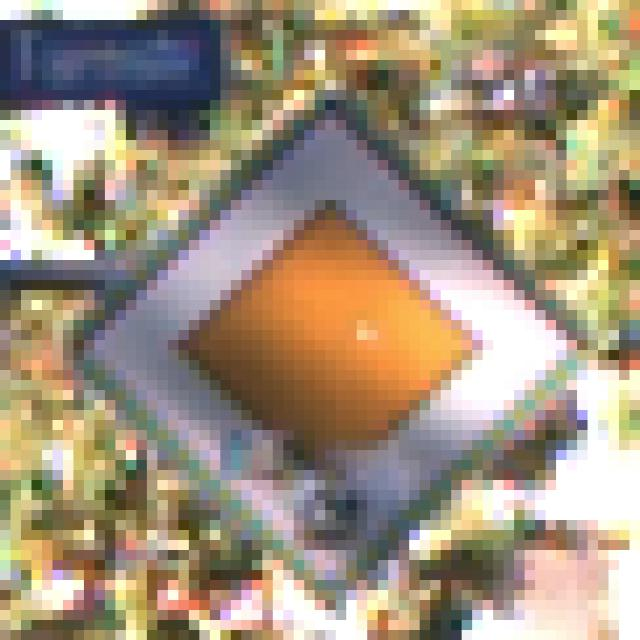Main Road: (54, 61, 589, 591)
